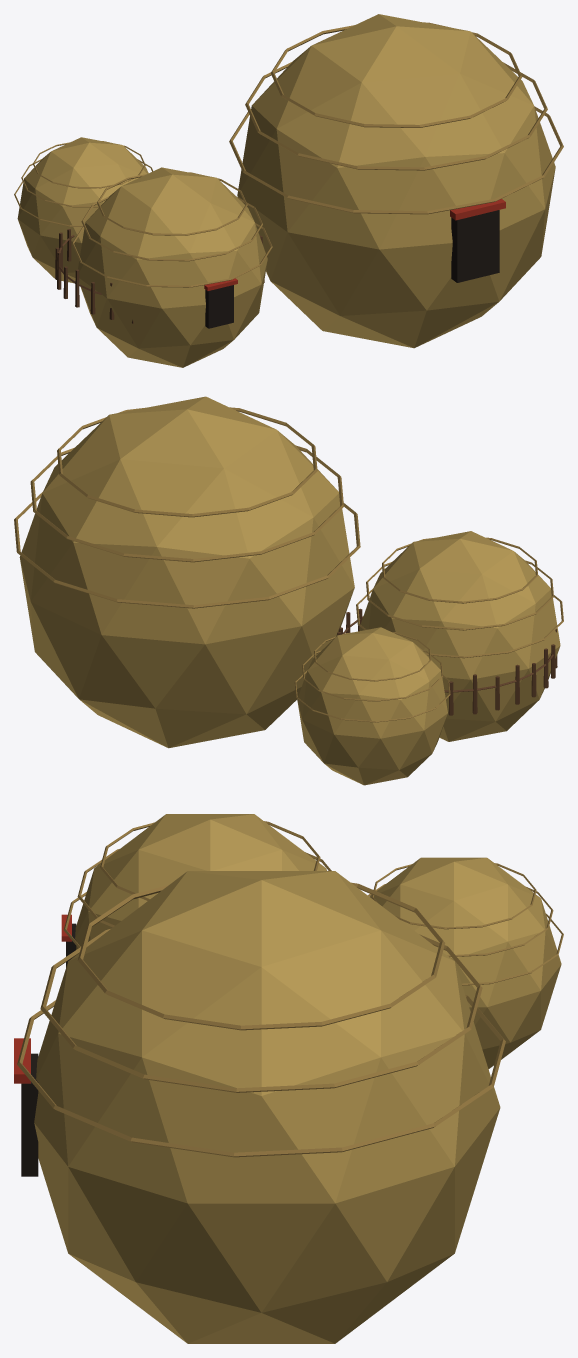
File: elephant_court.glb
3 views of the same model, one above another, from view 1: azimuth 30°, elevation 25°; view 2: azimuth 150°, elevation 25°; view 3: azimuth 270°, elevation 25° (orthographic). The views are drawn at different scales.
Parts seen in each view (by area): view 1: elephant_court; view 2: elephant_court; view 3: elephant_court.
Boxes of the visible parts, x1,y1,x2,y2 form: elephant_court: (14, 14, 563, 367); elephant_court: (14, 396, 563, 785); elephant_court: (14, 814, 563, 1343).
Size of the model in its own units: 2.84 by 1.76 by 1.93.
